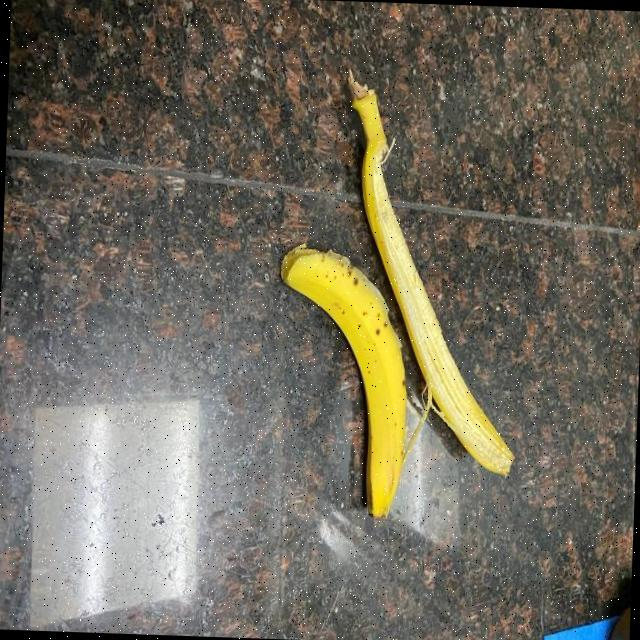banana-peel: (330, 66, 528, 478), (270, 241, 413, 520)
